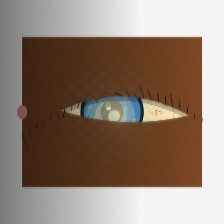corneal_ulcer: (80, 94, 140, 142)
